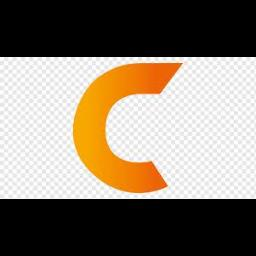c: (63, 59, 195, 193)
